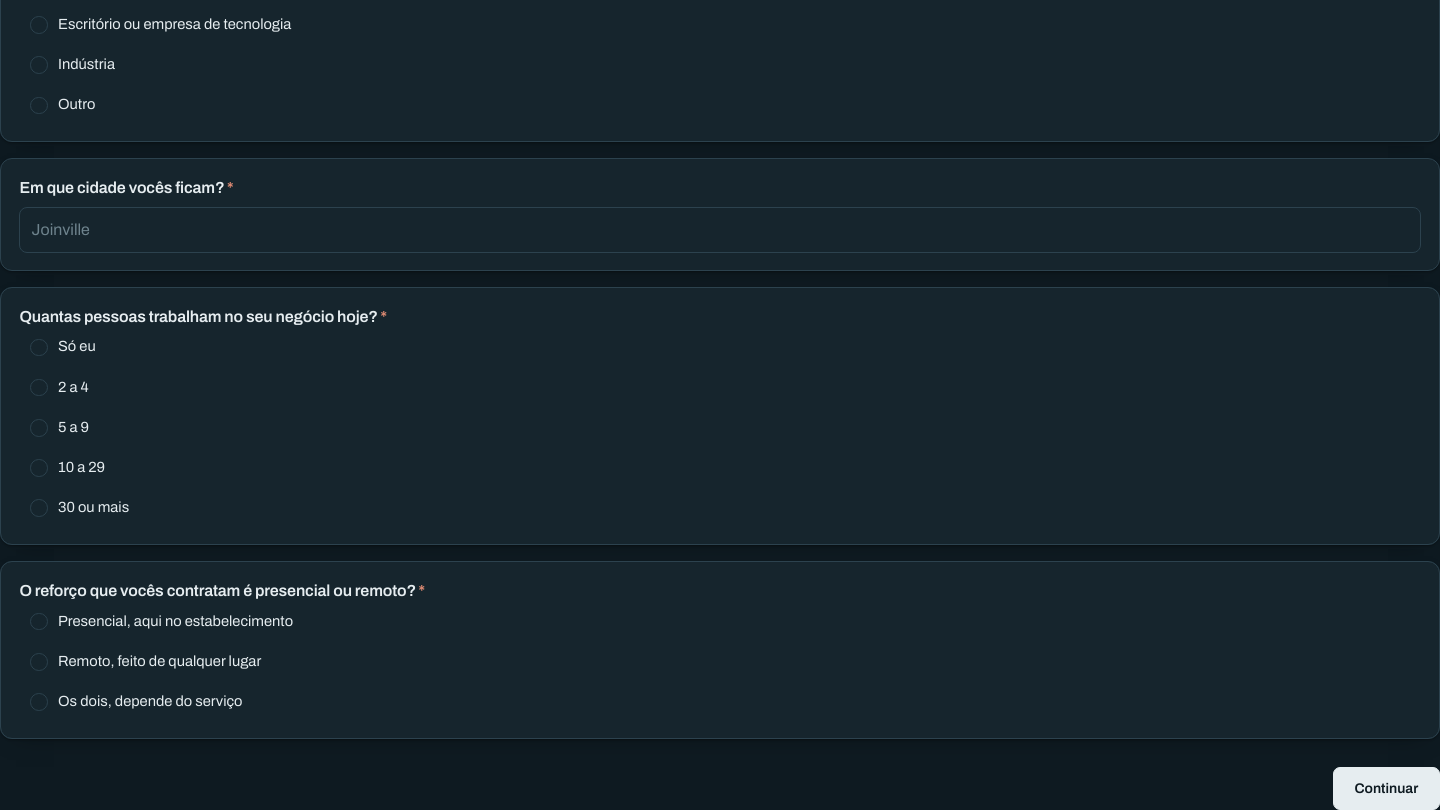
it: validação das obrigatórias › barra o avanço e diz quantas faltam
The width and height of the screenshot is (1440, 810).
(page scrolled)
Click the button "Continuar" at coordinates (1386, 788), box [1333,767,1439,809]
(page scrolled)
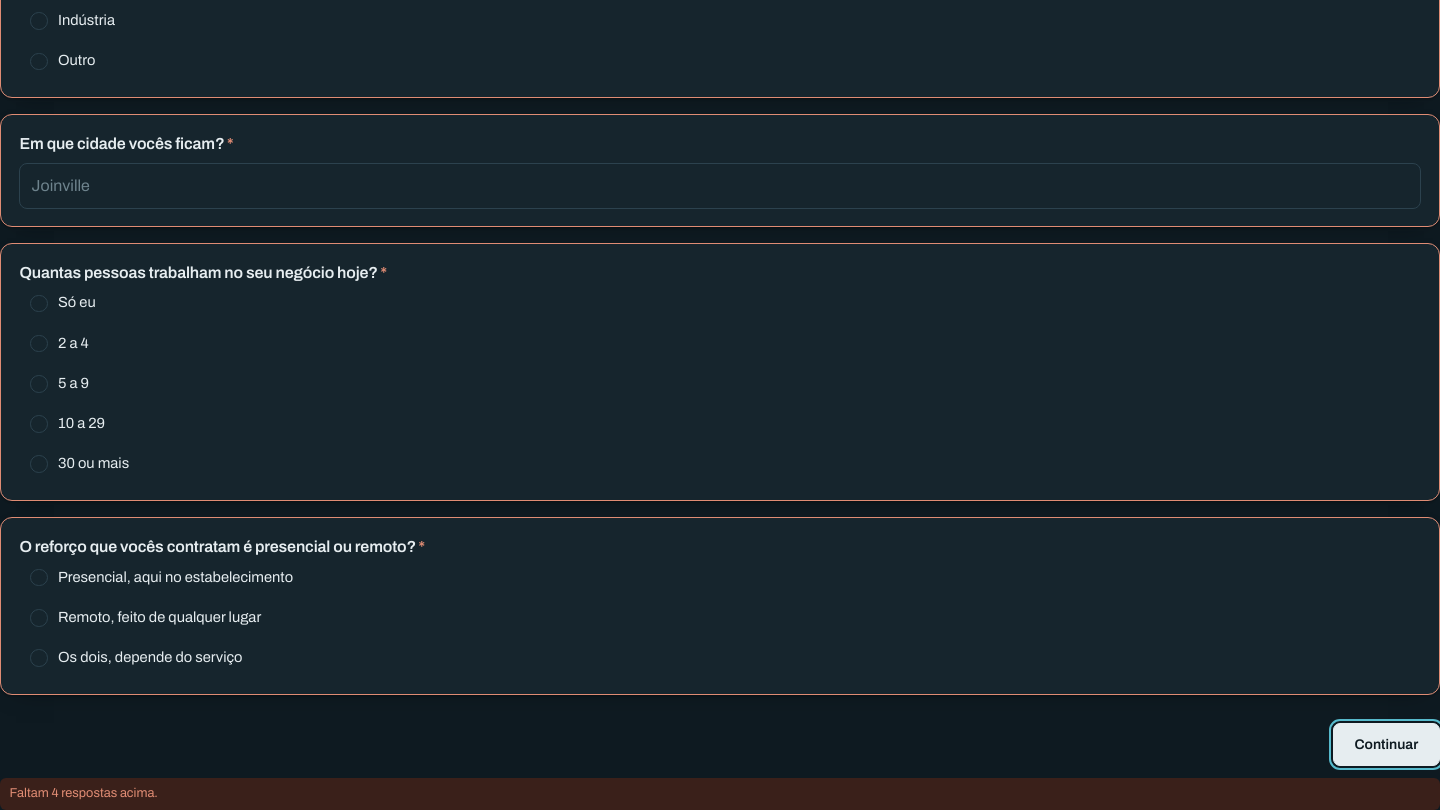
Check: the message shows "Faltam 4 respostas acima", box [10,786,158,800]
